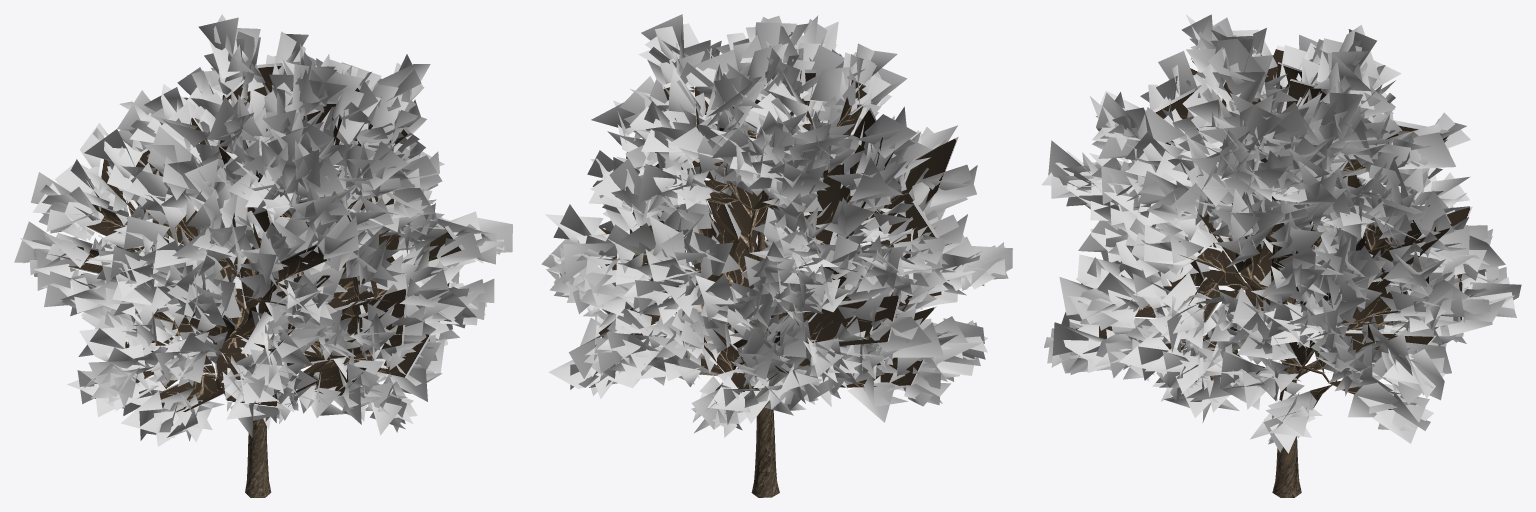
File: Tree.fbx
3 views of the same model, side by side, from view 1: azimuth 30°, elevation 25°; view 2: azimuth 150°, elevation 25°; view 3: azimuth 270°, elevation 25° (orthographic). The views are drawn at different scales.
Visible parts, largest first — view 1: Leaves, Trunk; view 2: Leaves, Trunk; view 3: Leaves, Trunk.
Part boxes in pixels (x1=…): Leaves: x1=14, y1=14, x2=512, y2=446; Trunk: x1=202, y1=233, x2=399, y2=497; Leaves: x1=541, y1=14, x2=1012, y2=437; Trunk: x1=676, y1=163, x2=845, y2=497; Leaves: x1=1042, y1=14, x2=1521, y2=453; Trunk: x1=1217, y1=230, x2=1404, y2=497.
Bounding box in the file's own units: 6943 × 7593 × 7078.
